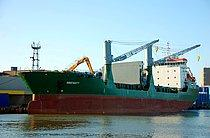Ship: (14, 37, 202, 118)
